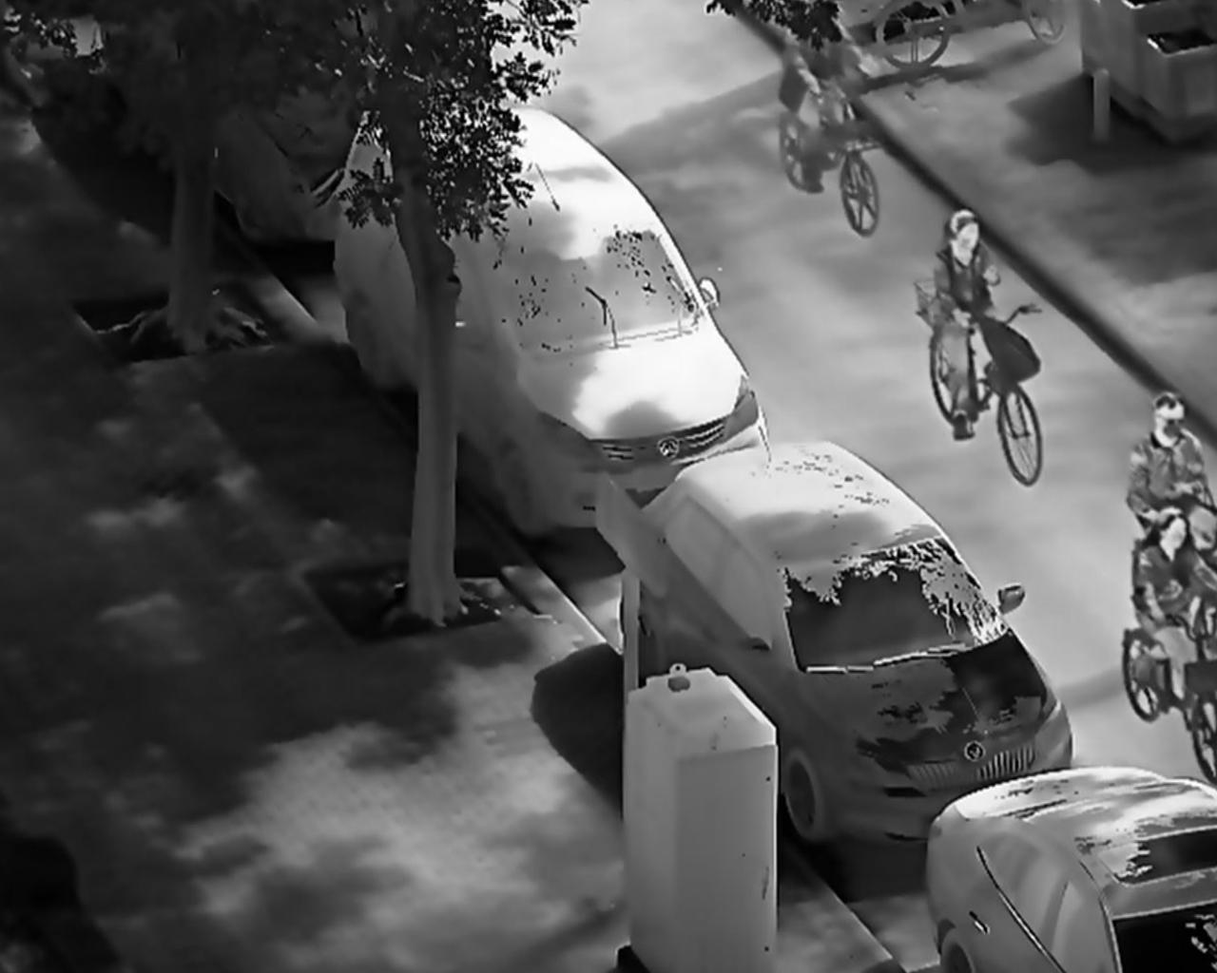person: (930, 206, 1019, 446), (1129, 506, 1217, 711), (1124, 390, 1217, 527)
